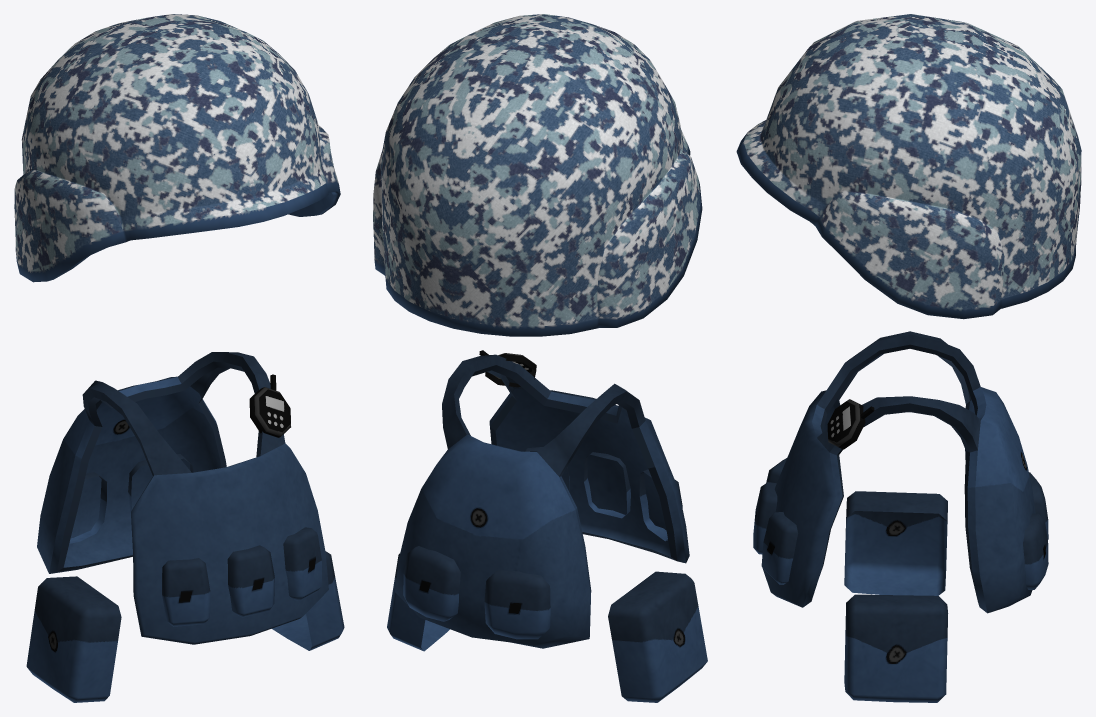
File: enemy7.fbx
3 renders of one model, left to right at view 1: azimuth 30°, elevation 25°; view 2: azimuth 150°, elevation 25°; view 3: azimuth 270°, elevation 25°, orthographic. The views are drawn at different scales.
Visible parts, largest first — view 1: armor3, hat3; view 2: hat3, armor3; view 3: hat3, armor3.
Boxes of the visible parts, <box> form: armor3: <box>26,352,344,702</box>; hat3: <box>14,14,340,282</box>; hat3: <box>373,14,702,336</box>; armor3: <box>387,350,707,702</box>; hat3: <box>736,14,1081,319</box>; armor3: <box>753,331,1048,702</box>.
Bounding box in the file's own units: 29.37 × 63.5 × 32.11.
